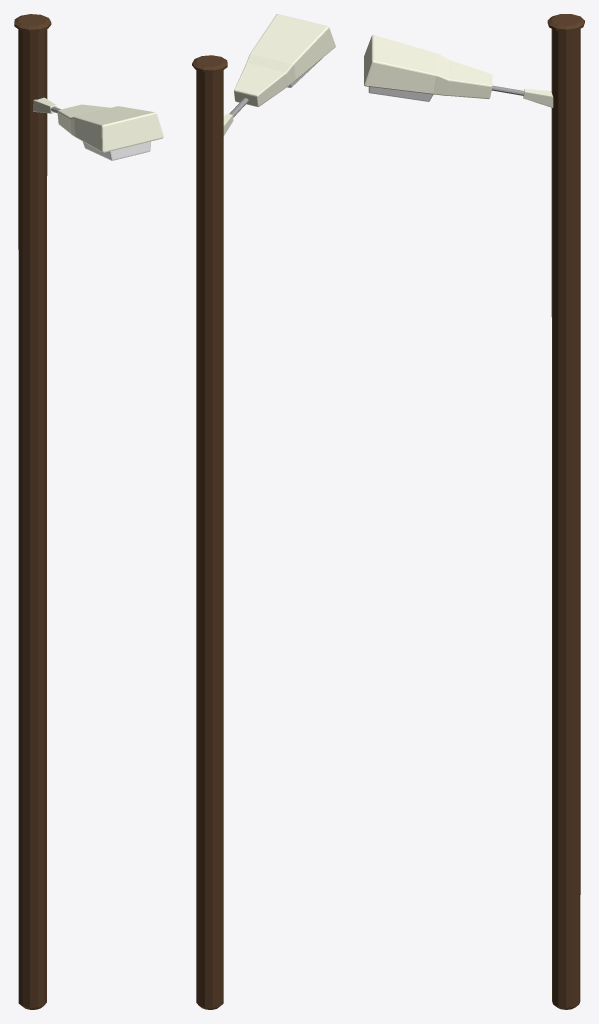
Rendered from Lyktestolpe3.fbx.
The picture shows the model from 3 angles, left to right: view 1: azimuth 30°, elevation 25°; view 2: azimuth 150°, elevation 25°; view 3: azimuth 270°, elevation 25°; orthographic projection. The views are drawn at different scales.
Visible parts, largest first — view 1: Lyktestolpe; view 2: Lyktestolpe; view 3: Lyktestolpe.
Part boxes in pixels (<box>): Lyktestolpe: <box>14,14,163,1009</box>; Lyktestolpe: <box>192,14,335,1009</box>; Lyktestolpe: <box>364,14,584,1009</box>.
Bounding box in the file's own units: 2.5 × 38.18 × 7.75.
